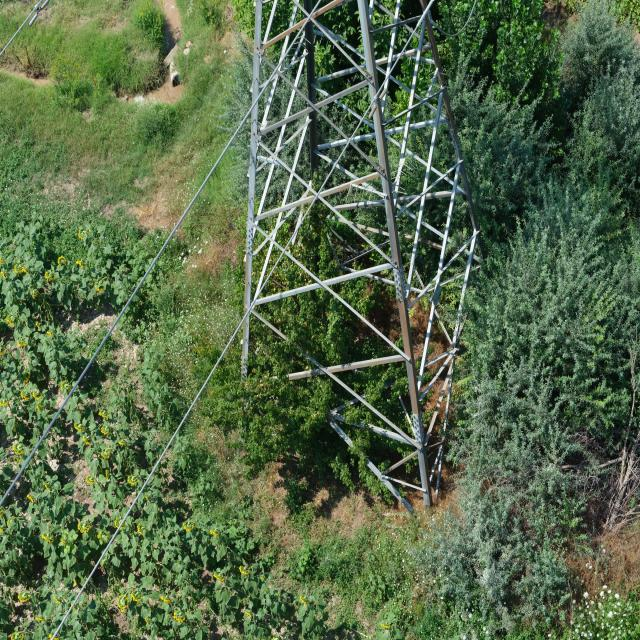direk: (235, 5, 487, 512)
tree: (506, 240, 621, 543), (478, 318, 580, 640), (458, 7, 560, 200), (551, 22, 640, 225)
